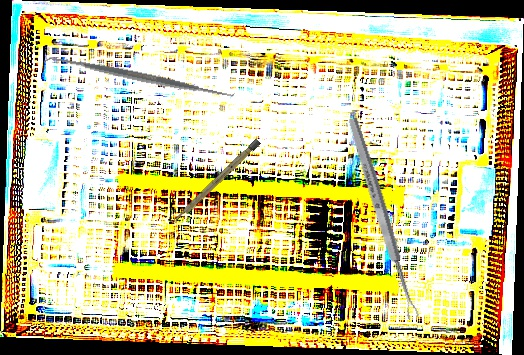Scalpel Handle: (171, 138, 262, 225)
Spatula Surgical: (42, 46, 237, 108)
Surgical Spoon: (345, 116, 421, 321)
